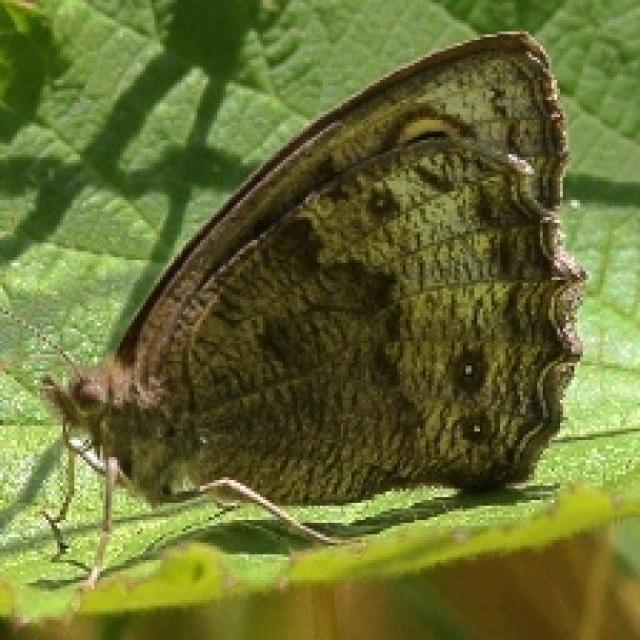butterfly: (0, 26, 589, 594)
